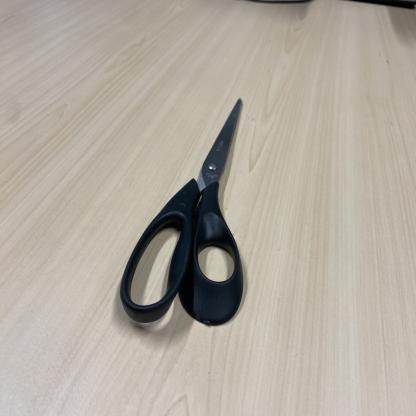scissors: (119, 98, 246, 326)
